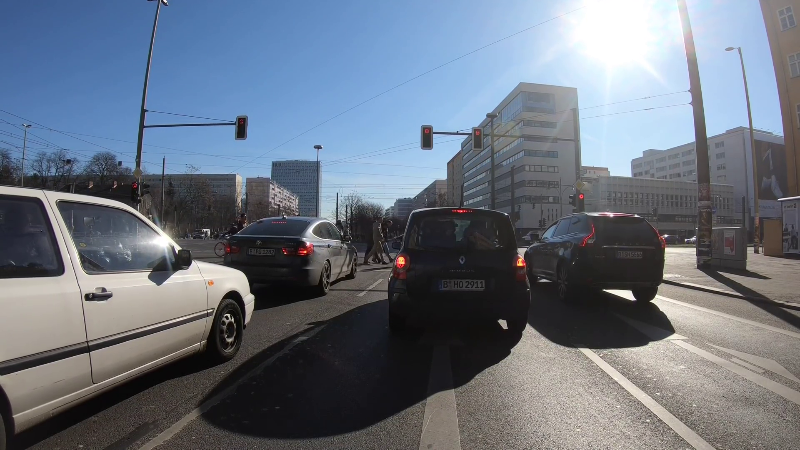Plate: (435, 275, 490, 296), (243, 246, 277, 258), (611, 248, 645, 260)
